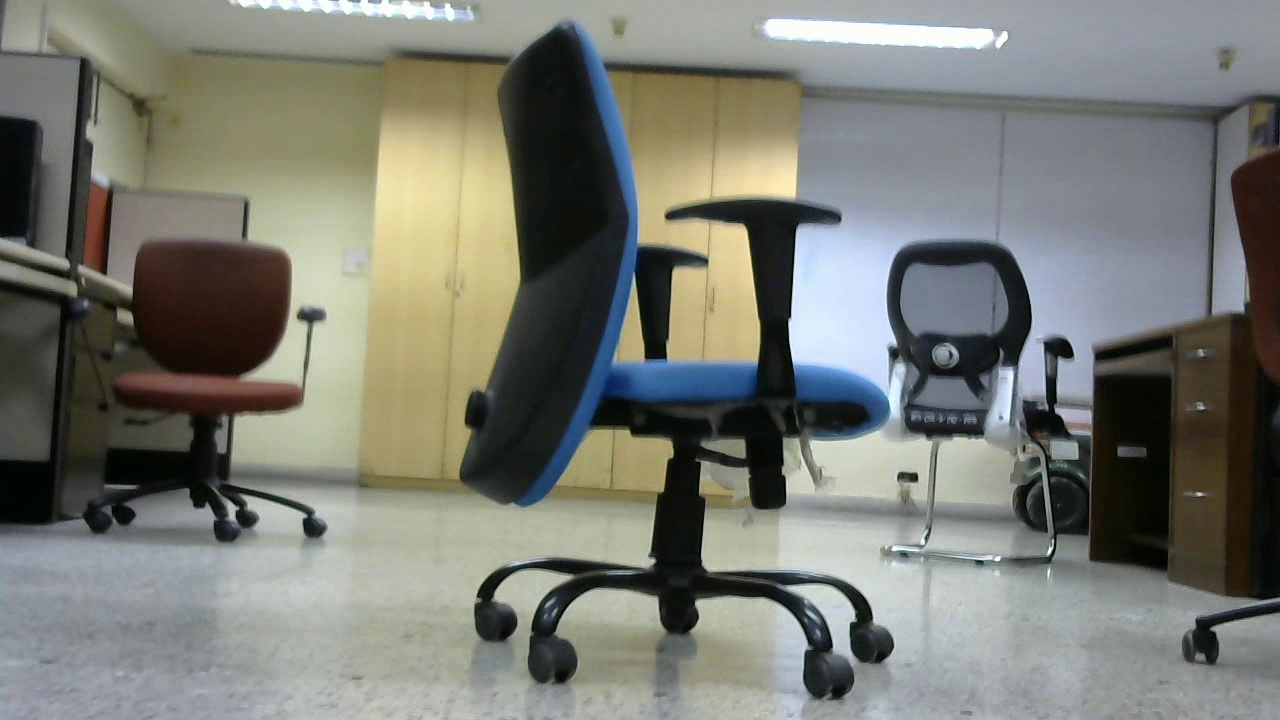chair: (461, 24, 893, 689), (82, 238, 326, 541), (874, 242, 1064, 569)
